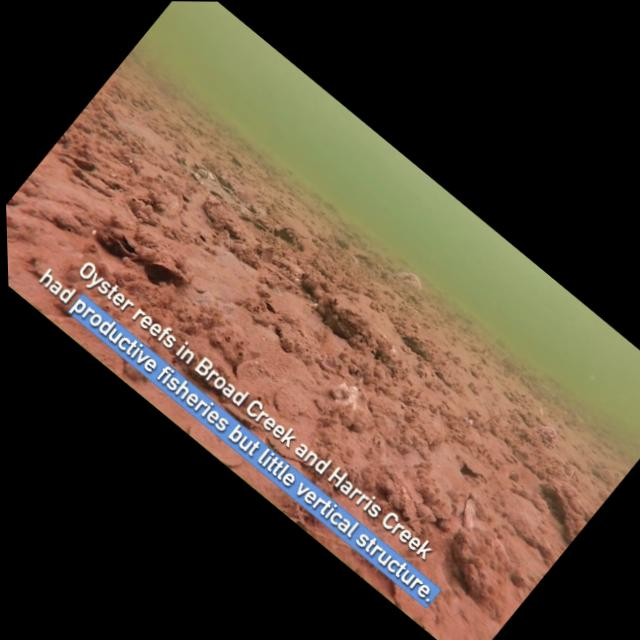Oyster-Indeterminate: (179, 413, 250, 475), (193, 190, 255, 247), (201, 314, 260, 371), (263, 374, 321, 430), (324, 298, 380, 353), (141, 249, 198, 302), (437, 520, 491, 574), (256, 427, 312, 476), (145, 175, 199, 224), (451, 481, 505, 529), (385, 490, 435, 538), (70, 163, 119, 208), (452, 452, 499, 495), (219, 397, 267, 439), (423, 489, 467, 530), (306, 463, 349, 504), (319, 413, 359, 451), (390, 261, 430, 298), (320, 450, 358, 485), (207, 165, 245, 199), (274, 219, 310, 254), (482, 528, 519, 562), (451, 497, 486, 532), (394, 474, 428, 506), (273, 329, 304, 359), (329, 398, 359, 427), (411, 499, 441, 527), (345, 409, 373, 437), (247, 210, 275, 237), (221, 145, 250, 171), (72, 150, 100, 176), (256, 292, 284, 318), (253, 242, 280, 268), (252, 306, 279, 332), (375, 473, 402, 499), (297, 271, 322, 296), (331, 231, 356, 254), (382, 486, 406, 509), (314, 407, 337, 429), (319, 348, 341, 369), (353, 248, 373, 266), (251, 237, 269, 254), (316, 351, 330, 365)
Oyster-Open: (108, 227, 146, 264), (557, 459, 584, 484), (228, 235, 252, 257), (415, 363, 432, 380), (603, 483, 613, 493)
